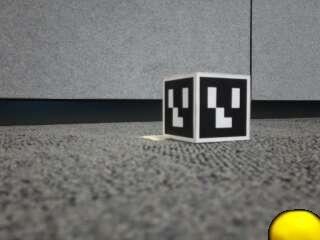lemon: (269, 211, 320, 240)
